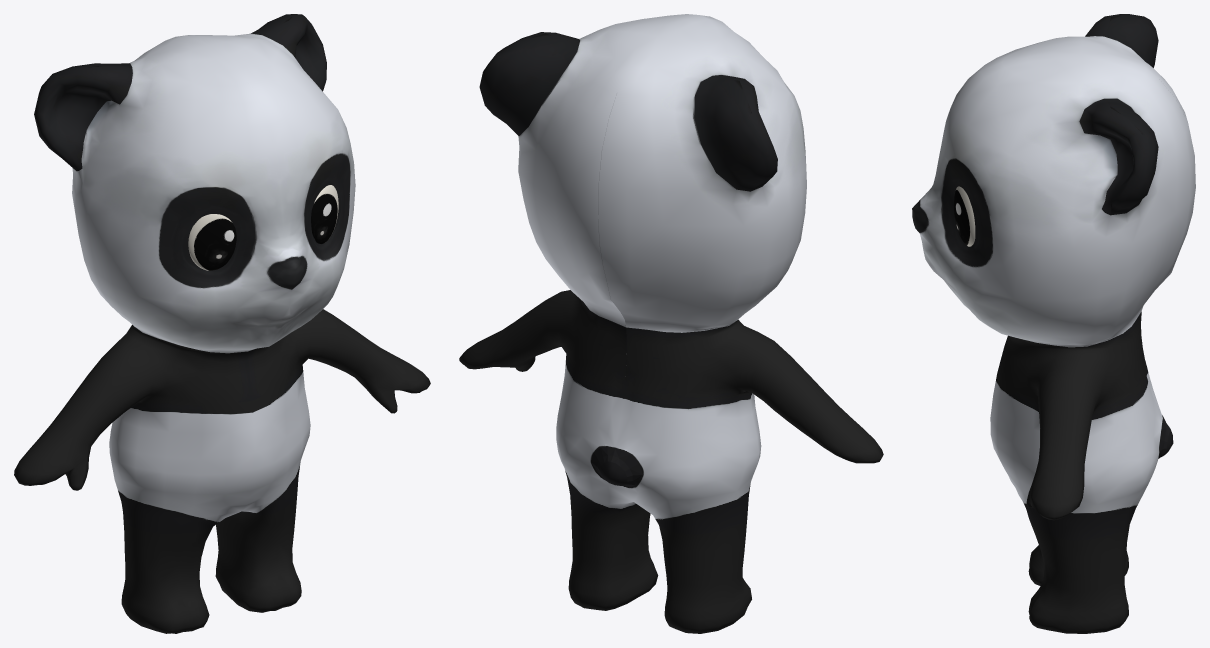
File: panda.FBX
3 views of the same model, side by side, from view 1: azimuth 30°, elevation 25°; view 2: azimuth 150°, elevation 25°; view 3: azimuth 270°, elevation 25° (orthographic). The views are drawn at different scales.
Parts seen in each view (by area): view 1: Sphere003; view 2: Sphere003; view 3: Sphere003.
Part boxes in pixels (x1,y1,x2,y2): Sphere003: (14, 14, 430, 633); Sphere003: (459, 14, 883, 633); Sphere003: (912, 14, 1195, 633).
Size of the model in its own units: 65.14 by 84.53 by 39.76.
